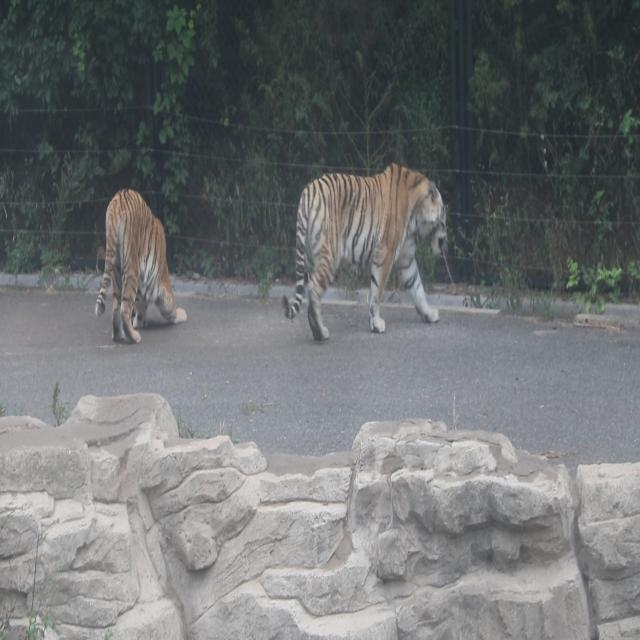Tiger: (289, 132, 472, 353), (80, 168, 199, 362)
